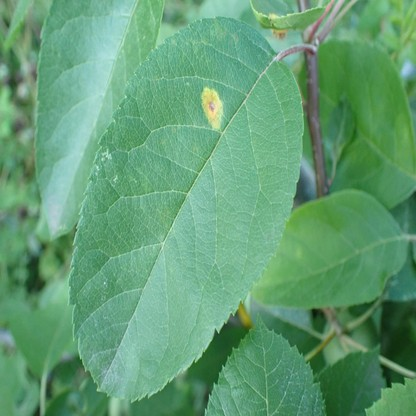rust: (201, 87, 222, 131), (269, 13, 285, 38)
